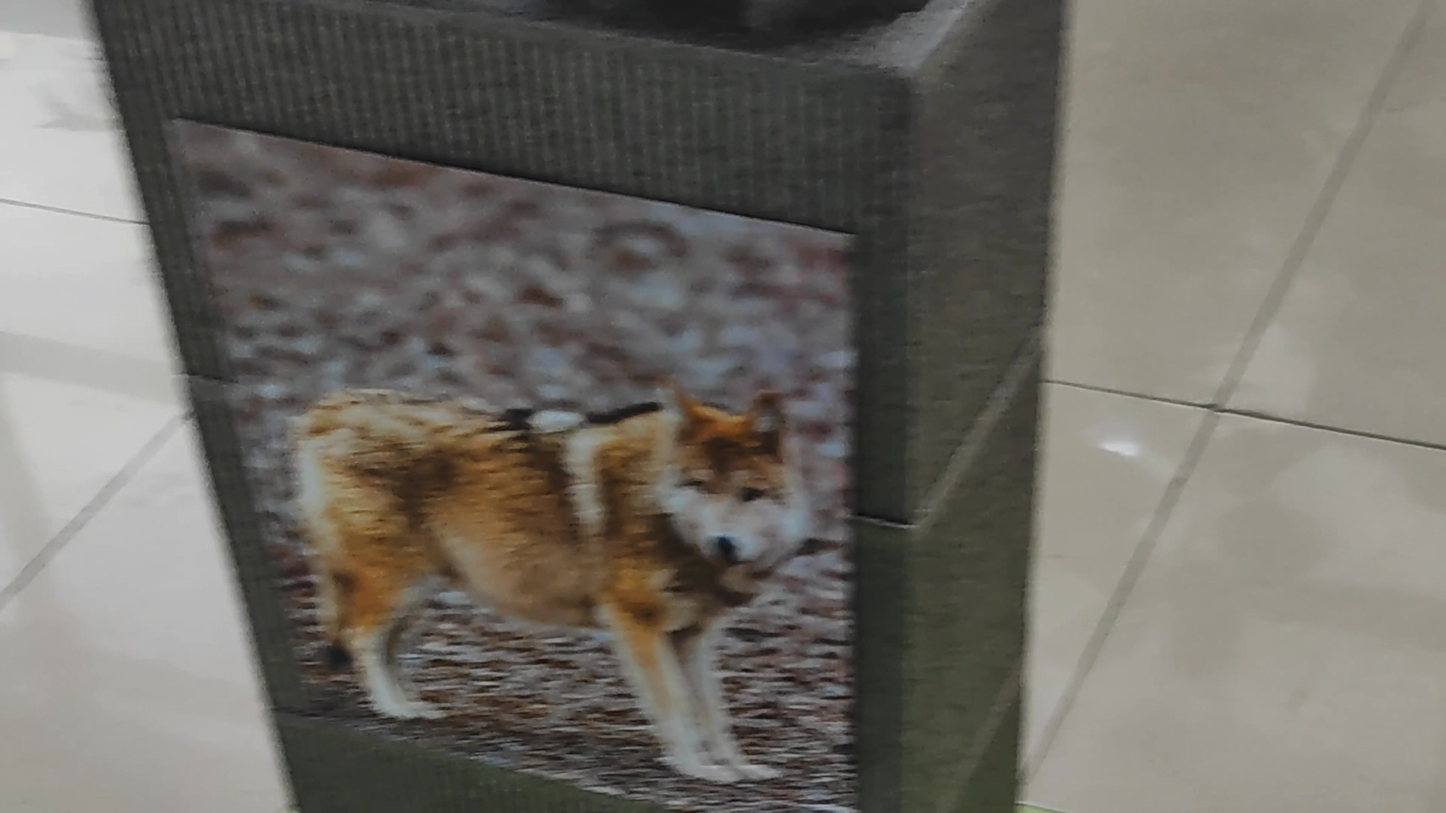wolf: (233, 239, 829, 752)
